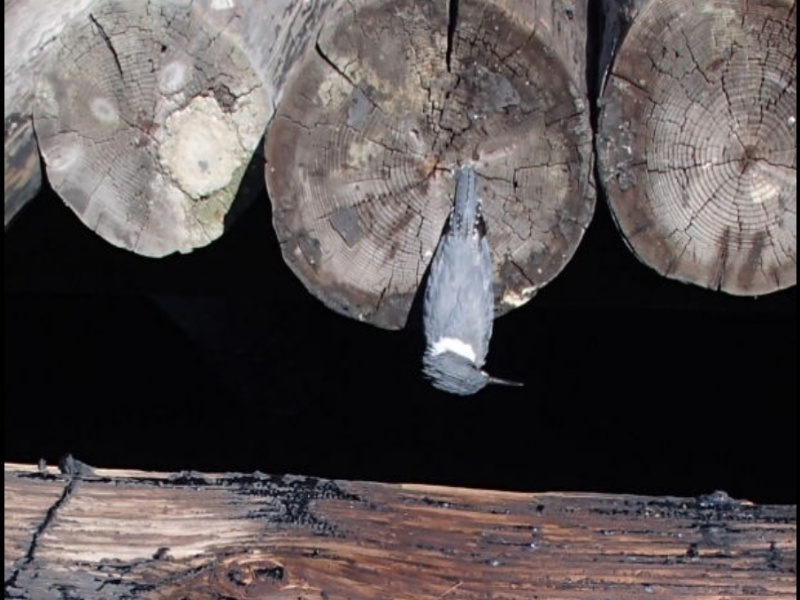kingfisher: (417, 170, 526, 404)
